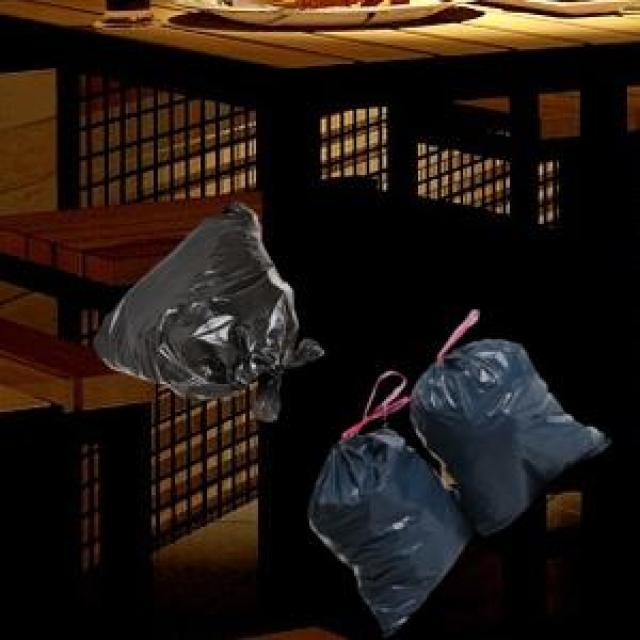Trashbag: (91, 197, 328, 425), (422, 329, 615, 539), (304, 432, 462, 634)
